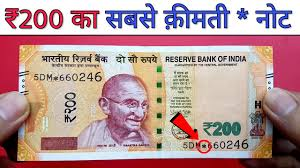twoHundred: (32, 65, 257, 141)
